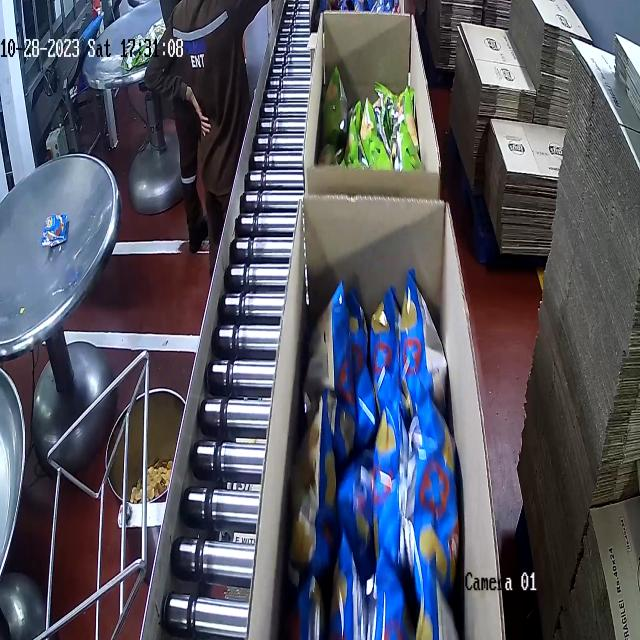PAPRIKA: (303, 276, 470, 640)
YOGURT_HERB: (324, 62, 424, 166)
